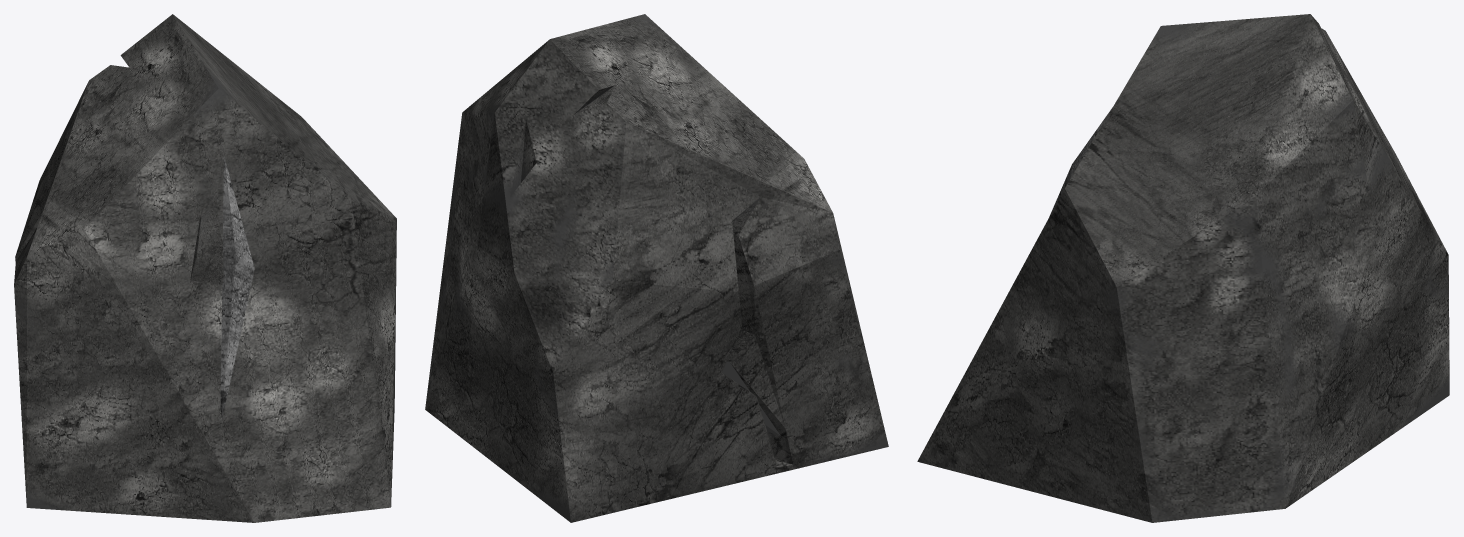
The model's file is dungRock.glb.
3 views of the same model, side by side, from view 1: azimuth 30°, elevation 25°; view 2: azimuth 150°, elevation 25°; view 3: azimuth 270°, elevation 25° (orthographic). The views are drawn at different scales.
Visible parts, largest first — view 1: rock2.001, rockMenu, rock2; view 2: rock2.001; view 3: rock2.001.
Boxes of the visible parts, x1=… form: rock2.001: x1=14, y1=14, x2=396, y2=522; rockMenu: x1=220, y1=156, x2=254, y2=419; rock2: x1=190, y1=209, x2=223, y2=284; rock2.001: x1=425, y1=14, x2=888, y2=522; rock2.001: x1=917, y1=14, x2=1449, y2=522.
Size of the model in its own units: 2.29 by 2.25 by 2.47.
Materials: 4 (4 with a texture image).
